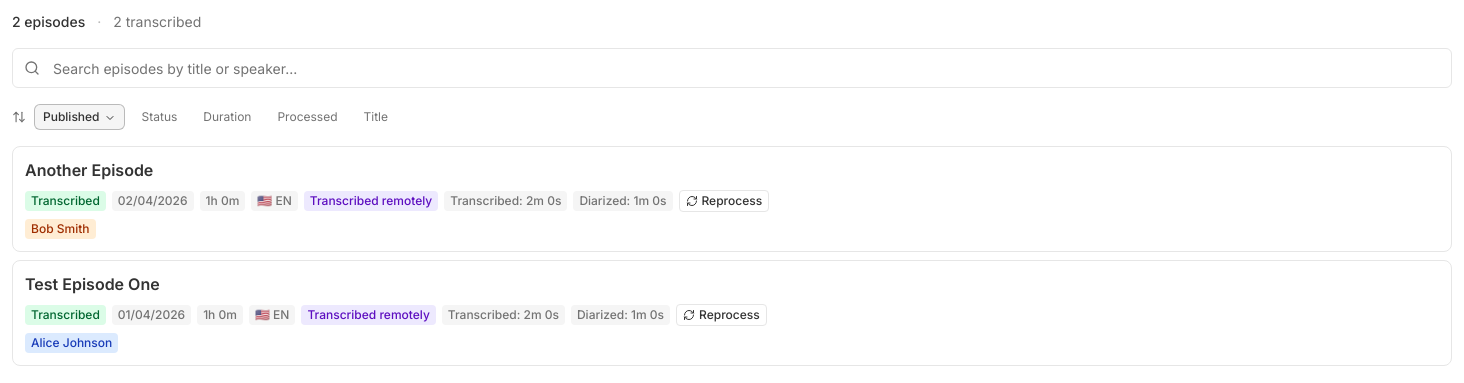
Test: EpisodesList — search / filter › filters episodes by speaker display name case-insensitively
The width and height of the screenshot is (1464, 383).
Type "alice" into the field labelled "Search episodes by title or speaker". click: (732, 68)
box: [12, 48, 1452, 88]
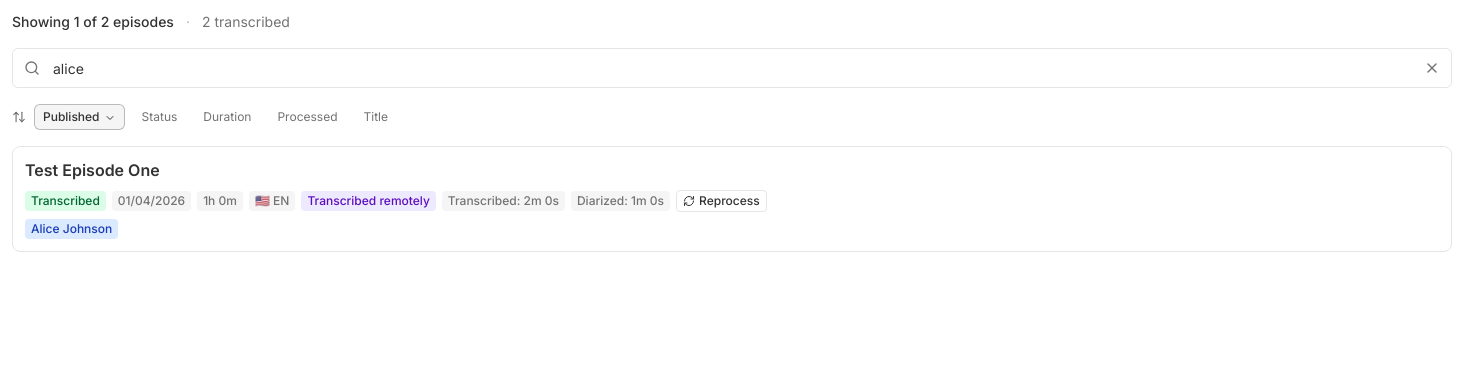
Check: the text "Test Episode One" is shown, box [25, 160, 160, 180]
Check: the text "Another Episode" is gone
Replace the text in the field named "Search episodes by title or speaker" with "SMITH". click: (732, 68)
box: [12, 48, 1452, 88]
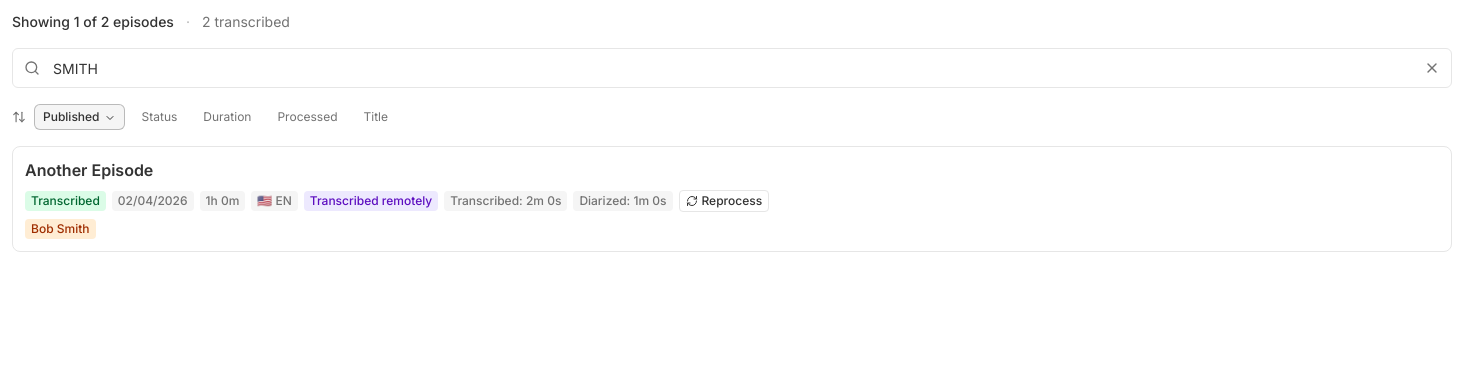
Check: the text "Test Episode One" is gone
Check: the text "Another Episode" is shown, box [25, 160, 153, 180]
